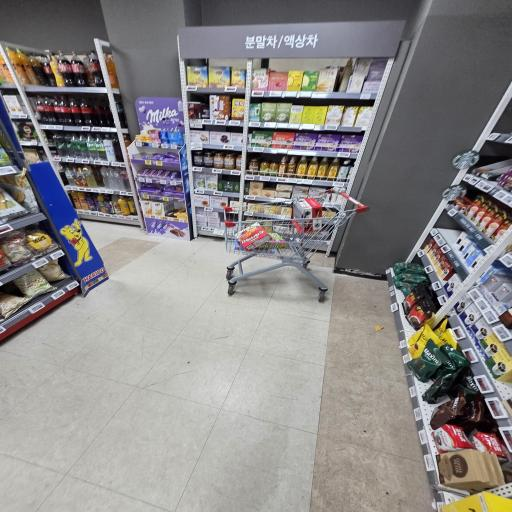fully_cart: (222, 190, 360, 301)
